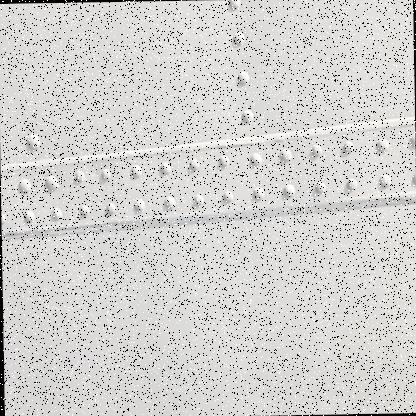Nocrack: (8, 10, 406, 405)
